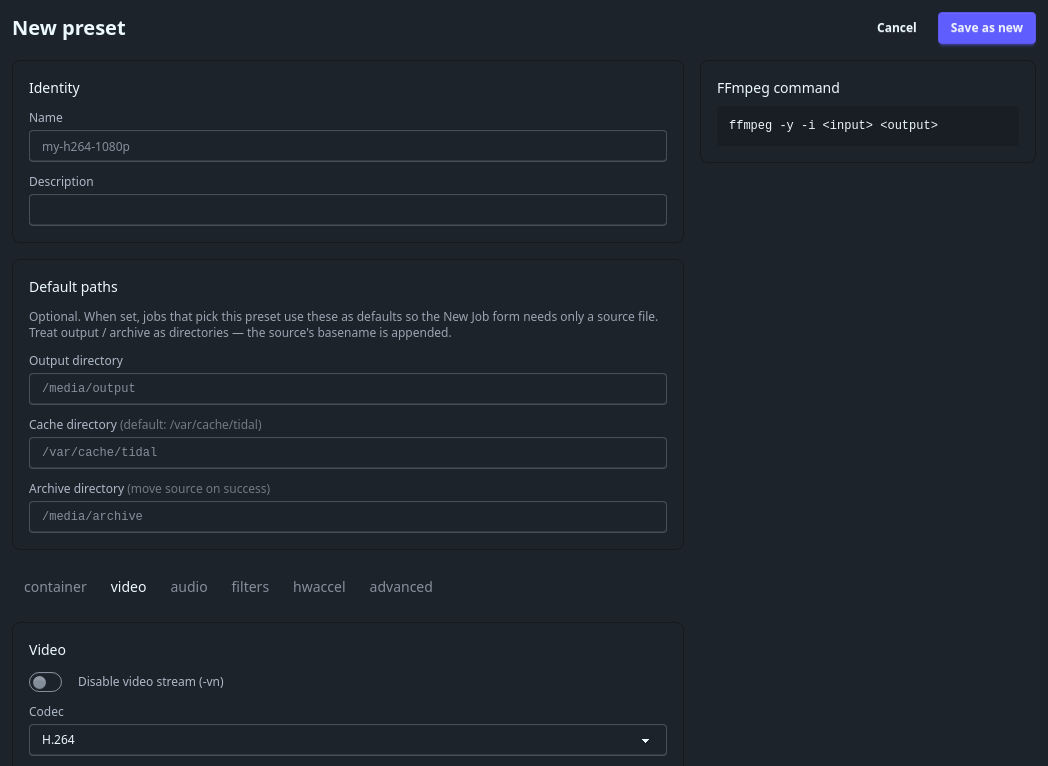
PresetEditorView › Save error surfaces in alert
This screenshot has width=1048, height=766.
What coordinates should you click on to do the following:
click the button "Save as new"
I would click on:
 (987, 28)
Its box is top-left (938, 12), bottom-right (1036, 44).
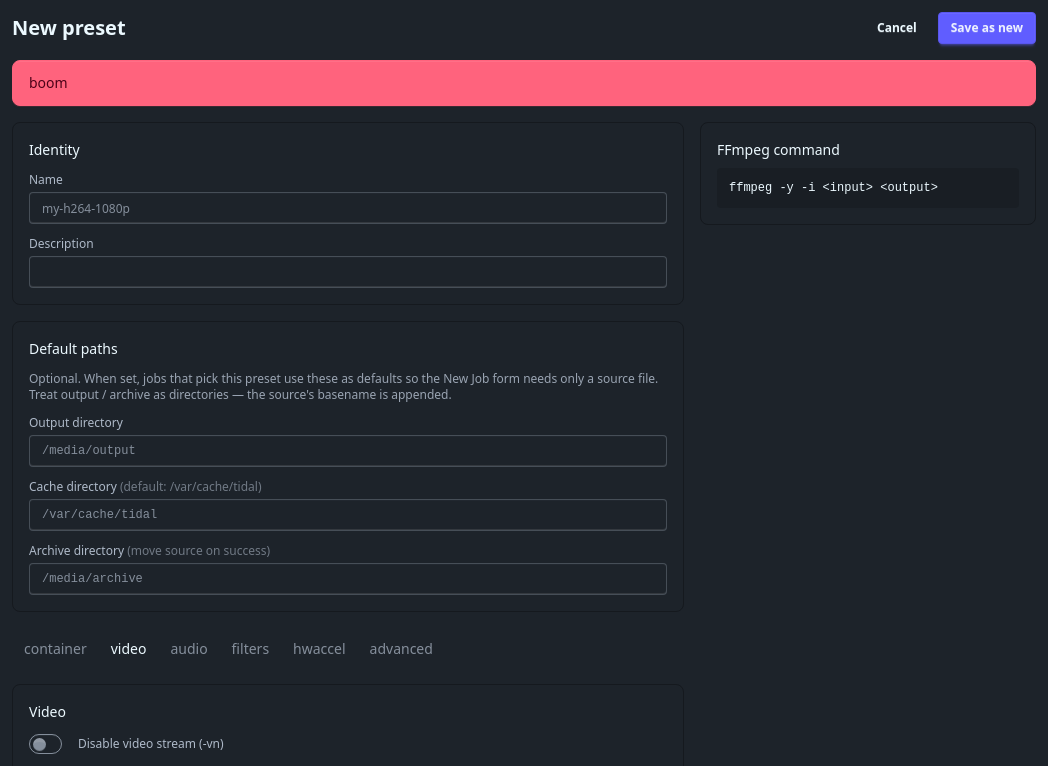
Now the text "boom" is shown, box top-left (29, 73), bottom-right (68, 93)
